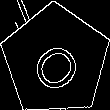O_NE: (23, 27, 88, 93)
